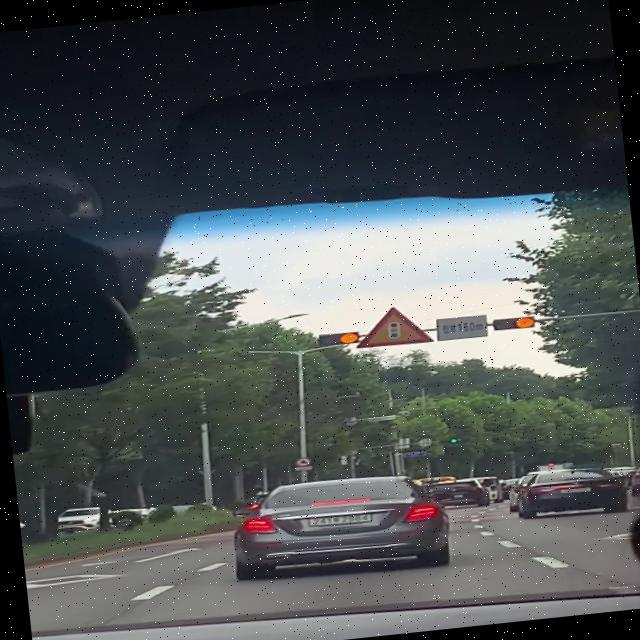yellow_light: (494, 316, 536, 330), (320, 332, 358, 346)
